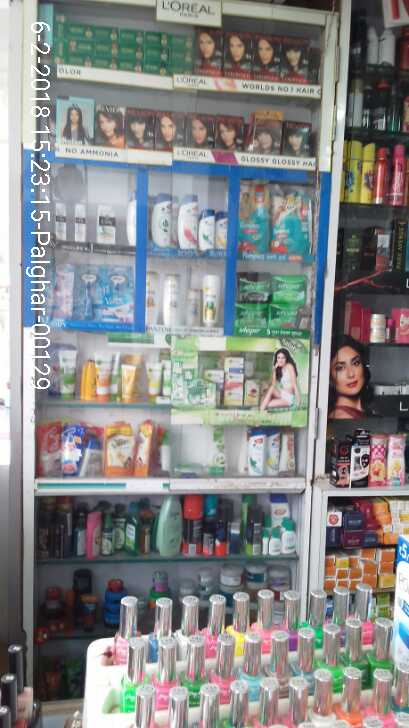gillete: (181, 496, 202, 556), (245, 514, 262, 556), (215, 507, 229, 556), (203, 520, 213, 557), (206, 493, 216, 516)
venus: (72, 266, 106, 320), (106, 266, 134, 326), (45, 263, 72, 320)
